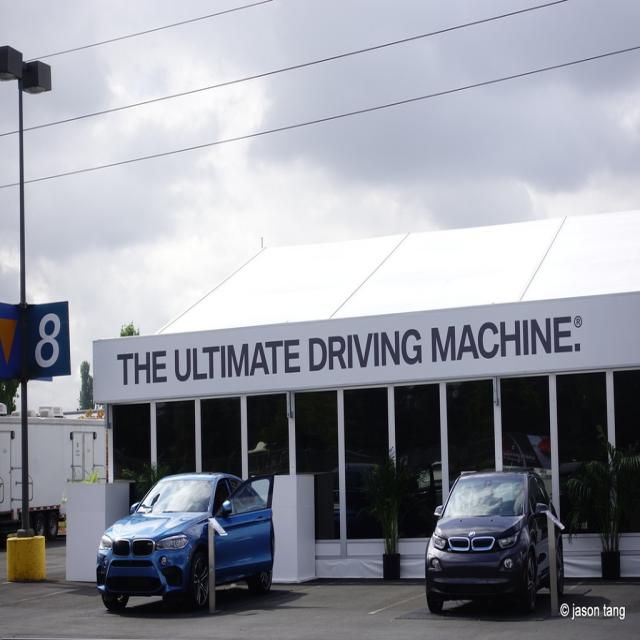Car: (96, 472, 274, 612), (424, 462, 564, 614)
